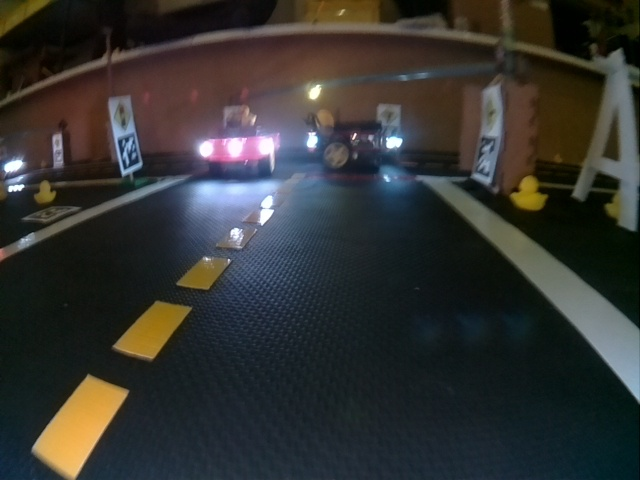Duckie: (511, 176, 546, 210), (33, 180, 56, 203), (237, 107, 256, 128)
Duckiebot: (306, 115, 386, 170), (201, 131, 280, 173)
Intersection sign: (482, 87, 498, 133), (382, 107, 399, 125)
QR code: (474, 135, 497, 180), (117, 133, 142, 172), (24, 206, 75, 223)
Signal sign: (111, 97, 133, 130)
Traffic light: (306, 83, 322, 100)
